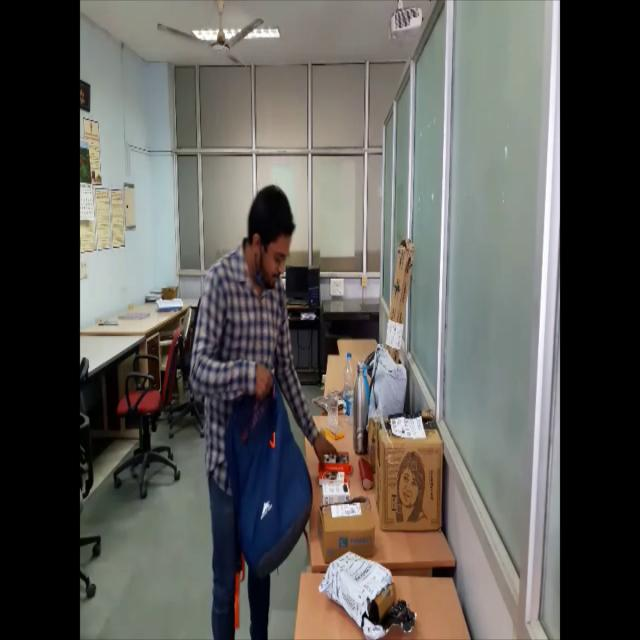shoplifting: (187, 178, 329, 640)
